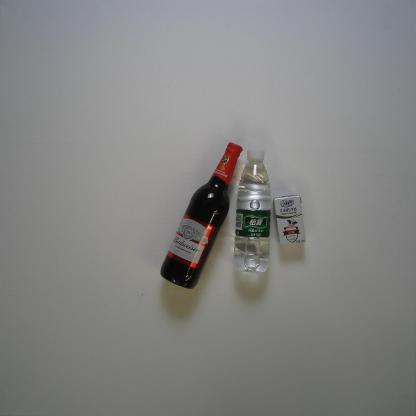Alcohol: (160, 141, 243, 290)
Drink: (232, 147, 272, 274)
Milk: (273, 194, 306, 247)
